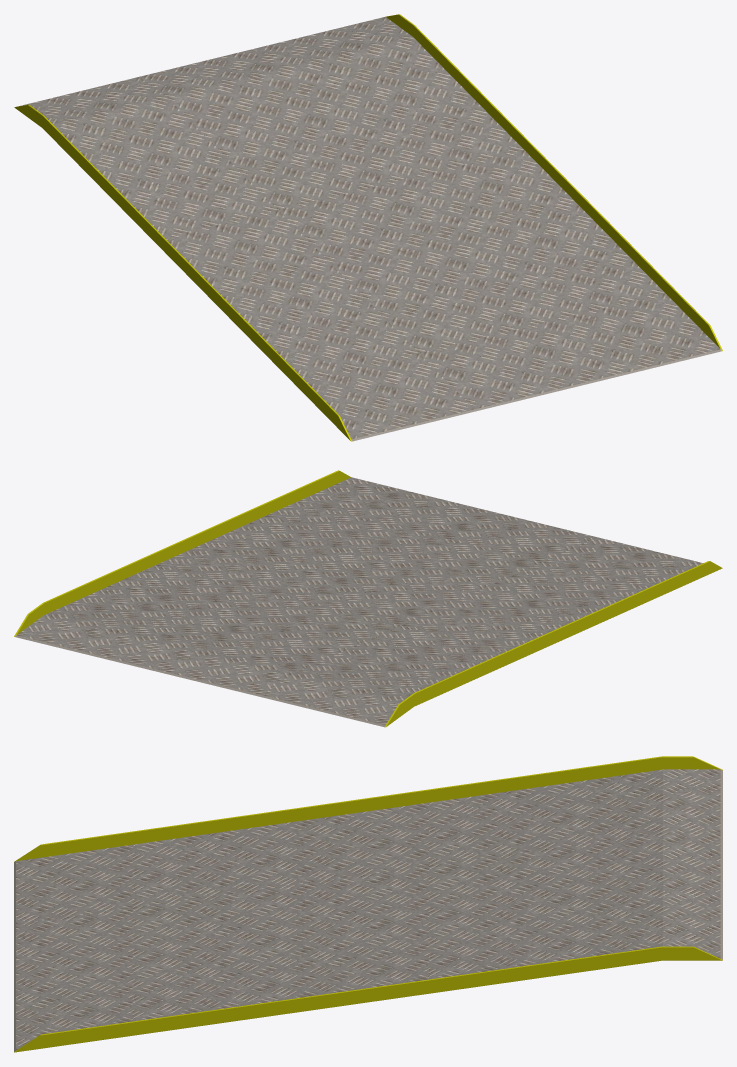
File: sweethome3d-contributions-pwd-ramp.glb
3 renders of one model, top to bottom at view 1: azimuth 30°, elevation 25°; view 2: azimuth 150°, elevation 25°; view 3: azimuth 270°, elevation 25°, orthographic. The views are drawn at different scales.
Visible parts, largest first — view 1: Cube; view 2: Cube; view 3: Cube.
Boxes of the visible parts, <box> form: Cube: <box>14,14,722,441</box>; Cube: <box>14,470,722,727</box>; Cube: <box>14,756,722,1052</box>.
Bounding box in the file's own units: 75.6 × 19.5 × 119.
Materials: 2 (1 with a texture image).
